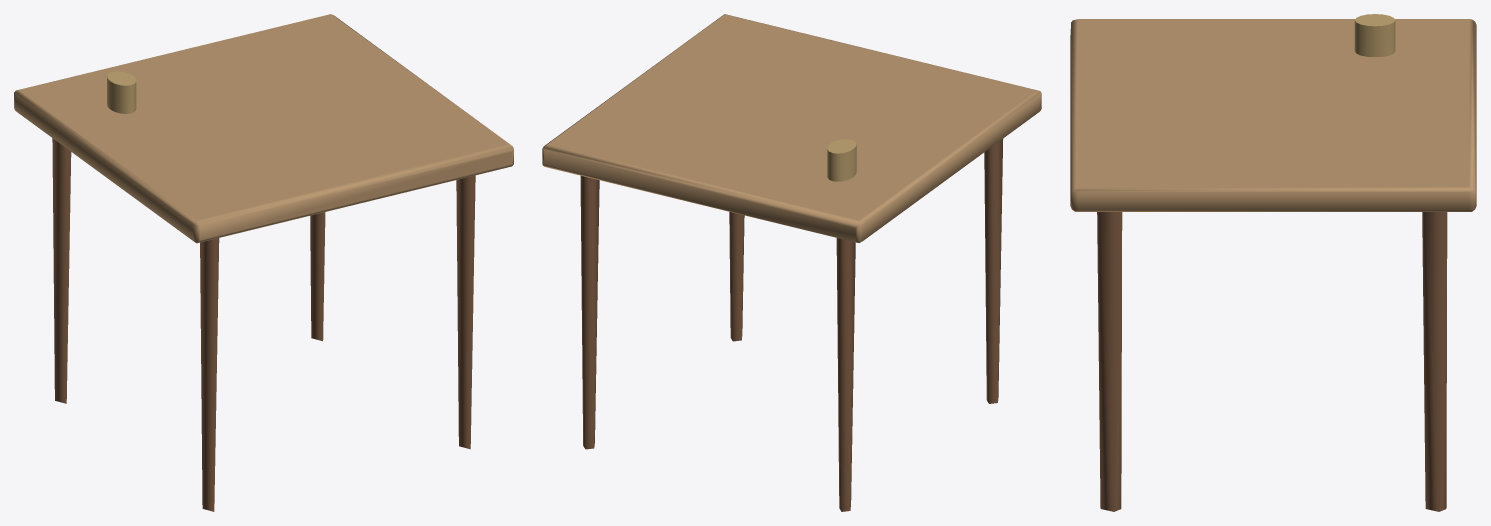
The model's file is desk-5-3.lod.glb.
The picture shows the model from 3 angles, left to right: view 1: azimuth 30°, elevation 25°; view 2: azimuth 150°, elevation 25°; view 3: azimuth 270°, elevation 25°; orthographic projection. The views are drawn at different scales.
Parts seen in each view (by area): view 1: upholstery, part (×2); view 2: upholstery, part (×2); view 3: upholstery, part (×2).
Part boxes in pixels (x1,y1,x2,y2): upholstery: (14, 14, 513, 243); part (×2): (52, 71, 475, 511); upholstery: (542, 14, 1041, 242); part (×2): (580, 139, 1003, 511); upholstery: (1070, 19, 1476, 211); part (×2): (1097, 14, 1447, 511).
Size of the model in its own units: 1 by 1 by 1.
